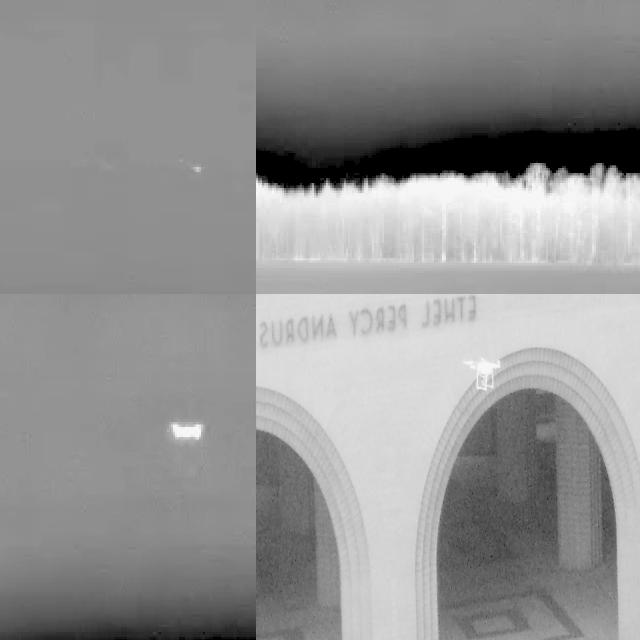0: (190, 160, 212, 182)
1: (158, 416, 218, 450)
drone: (468, 354, 504, 397)
